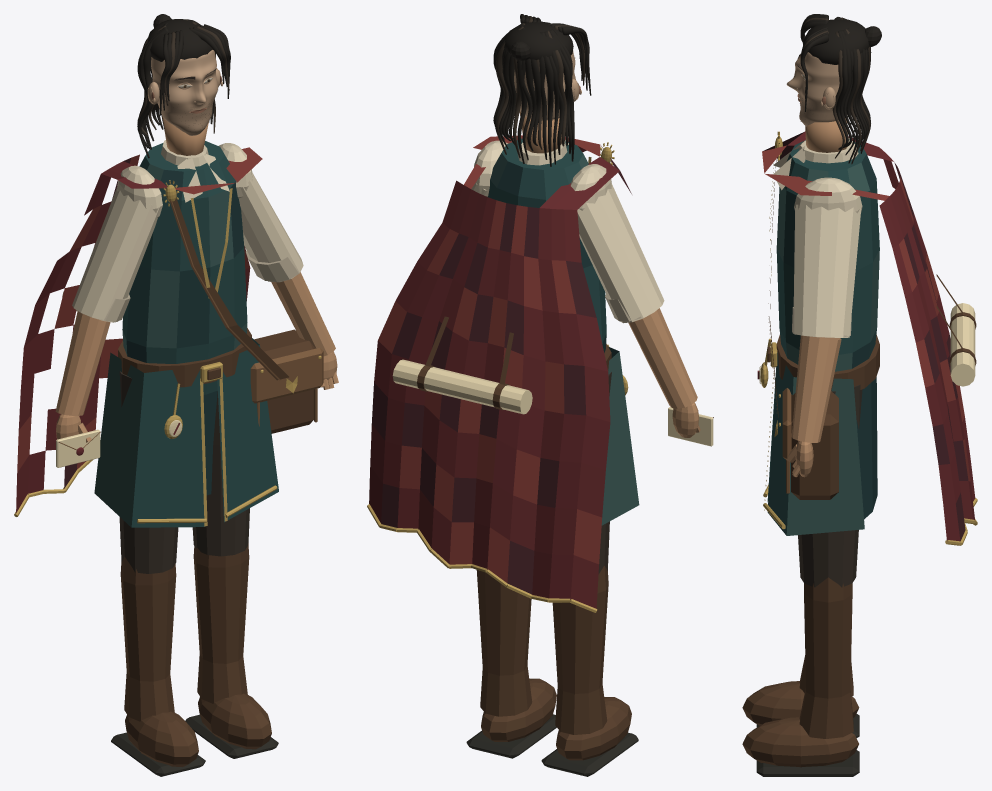
The model's file is courier.glb.
The picture shows the model from 3 angles, left to right: view 1: azimuth 30°, elevation 25°; view 2: azimuth 150°, elevation 25°; view 3: azimuth 270°, elevation 25°; orthographic projection. The views are drawn at different scales.
Parts seen in each view (by area): view 1: Waistcoat, Split_coat_R, Cloak_folds, Boot_shaft_R, Boot_shaft_L, Split_coat_L, Linen_sleeve_R, Face, Forearm_R, Linen_sleeve_L, Trouser_thigh_L, Boot_toe_L (+17 smaller); view 2: Cloak_folds, Boot_shaft_R, Boot_shaft_L, Linen_sleeve_R, Waistcoat, Split_coat_R, Map_roll, Forearm_R, Boot_toe_L, Boot_toe_R, Hair_crown, Boot_sole_R (+7 smaller); view 3: Cloak_folds, Waistcoat, Linen_sleeve_L, Boot_shaft_L, Split_coat_L, Boot_toe_L, Forearm_L, Trouser_thigh_L, Messenger_satchel, Face, Back_coat, Boot_toe_R (+12 smaller).
Part boxes in pixels (bbox=[...]): Waistcoat: bbox=[122, 141, 247, 394]; Split_coat_R: bbox=[94, 352, 205, 527]; Cloak_folds: bbox=[16, 147, 262, 513]; Boot_shaft_R: bbox=[120, 557, 176, 721]; Boot_shaft_L: bbox=[193, 543, 249, 703]; Split_coat_L: bbox=[217, 338, 278, 522]; Linen_sleeve_R: bbox=[72, 186, 160, 322]; Face: bbox=[151, 50, 217, 135]; Forearm_R: bbox=[55, 311, 110, 415]; Linen_sleeve_L: bbox=[239, 172, 303, 282]; Trouser_thigh_L: bbox=[192, 391, 249, 556]; Boot_toe_L: bbox=[198, 693, 271, 749]; Cloak_folds: bbox=[369, 135, 631, 608]; Boot_shaft_R: bbox=[552, 565, 608, 734]; Boot_shaft_L: bbox=[476, 570, 532, 716]; Linen_sleeve_R: bbox=[577, 183, 664, 323]; Waistcoat: bbox=[488, 138, 606, 352]; Split_coat_R: bbox=[601, 346, 639, 525]; Map_roll: bbox=[392, 359, 532, 414]; Forearm_R: bbox=[628, 308, 697, 408]; Boot_toe_L: bbox=[481, 678, 556, 741]; Boot_toe_R: bbox=[556, 697, 631, 760]; Hair_crown: bbox=[504, 21, 573, 59]; Boot_sole_R: bbox=[541, 732, 638, 776]; Cloak_folds: bbox=[762, 131, 975, 541]; Waistcoat: bbox=[776, 139, 879, 371]; Linen_sleeve_L: bbox=[793, 204, 861, 337]; Boot_shaft_L: bbox=[799, 577, 853, 738]; Split_coat_L: bbox=[767, 352, 864, 535]; Boot_toe_L: bbox=[742, 717, 858, 767]; Forearm_L: bbox=[791, 335, 841, 442]; Trouser_thigh_L: bbox=[798, 384, 862, 587]; Messenger_satchel: bbox=[791, 391, 838, 499]; Face: bbox=[786, 52, 847, 126]; Back_coat: bbox=[856, 377, 877, 519]; Boot_toe_R: bbox=[742, 681, 859, 725].
Bounding box in the file's own units: 0.7395 × 1.75 × 0.5149.
